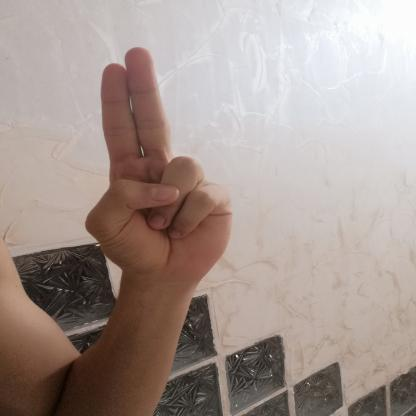TA: (65, 36, 241, 296)
